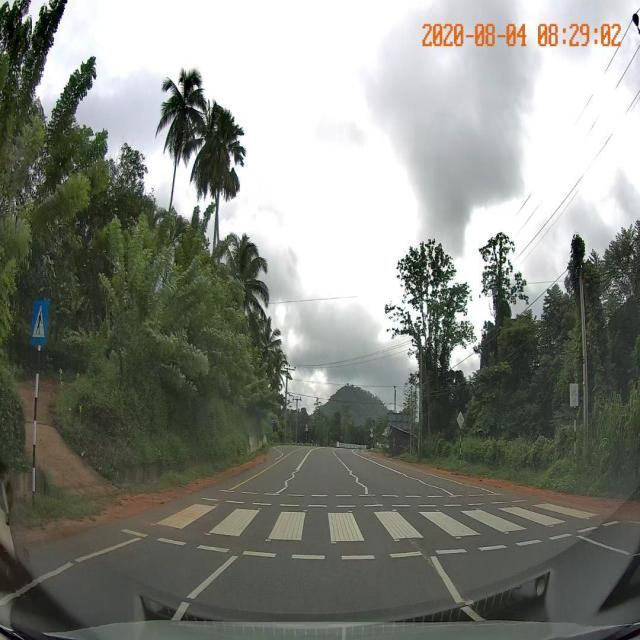Liniya 1: (184, 553, 241, 602), (428, 556, 467, 607)
Perehod: (149, 499, 598, 545)
